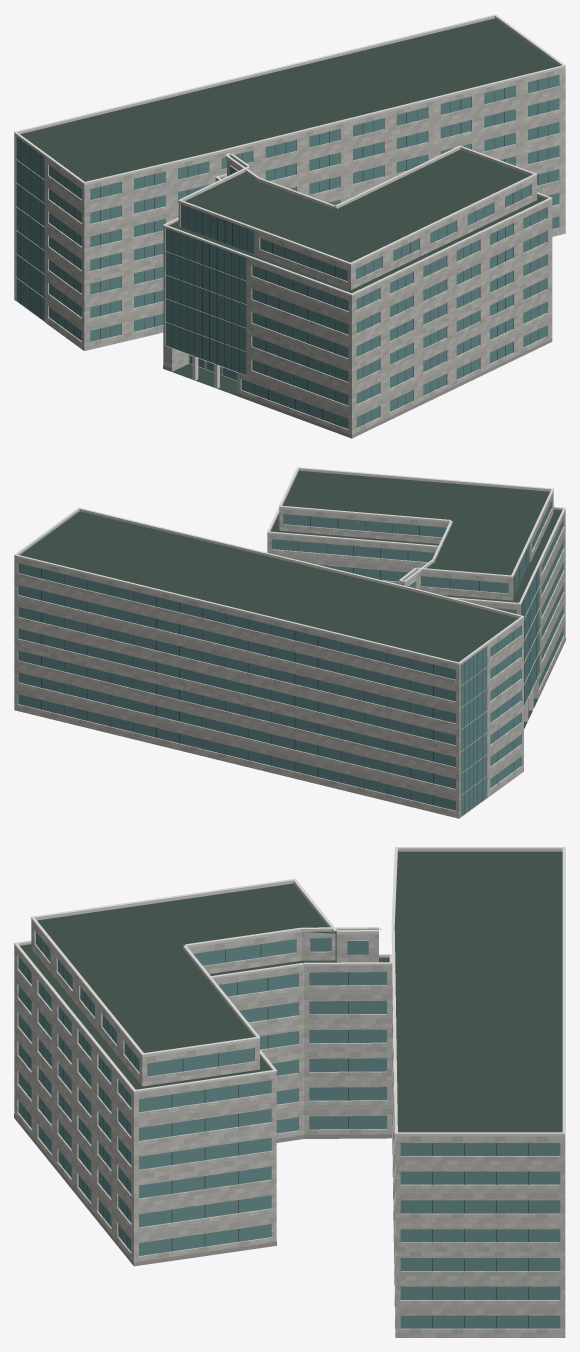
3 views of the same model, one above another, from view 1: azimuth 30°, elevation 25°; view 2: azimuth 150°, elevation 25°; view 3: azimuth 270°, elevation 25° (orthographic). The views are drawn at different scales.
Visible parts, largest first — view 1: posco__wall, posco__glass, posco__roof, posco__parapet, posco__trim, posco__frame, posco__base; view 2: posco__wall, posco__glass, posco__roof, posco__trim, posco__parapet, posco__frame; view 3: posco__wall, posco__roof, posco__glass, posco__trim, posco__parapet, posco__frame, posco__base.
Boxes of the visible parts, x1,y1,x2,y2 form: posco__wall: [14, 68, 565, 437]; posco__glass: [16, 74, 558, 429]; posco__roof: [20, 18, 559, 395]; posco__parapet: [14, 16, 565, 296]; posco__trim: [14, 14, 565, 295]; posco__frame: [18, 77, 548, 424]; posco__base: [163, 339, 552, 438]; posco__wall: [14, 492, 565, 818]; posco__glass: [18, 500, 563, 816]; posco__roof: [20, 470, 561, 728]; posco__trim: [14, 467, 565, 663]; posco__parapet: [14, 468, 564, 665]; posco__frame: [41, 516, 557, 814]; posco__wall: [14, 920, 565, 1337]; posco__roof: [20, 851, 562, 1138]; posco__glass: [18, 932, 560, 1328]; posco__trim: [14, 847, 565, 1134]; posco__parapet: [14, 848, 565, 1136]; posco__frame: [28, 938, 528, 1328]; posco__base: [14, 1114, 392, 1266].
Bounding box in the file's own units: 76.88 × 25.62 × 62.59.
9 materials, 1 textured.
